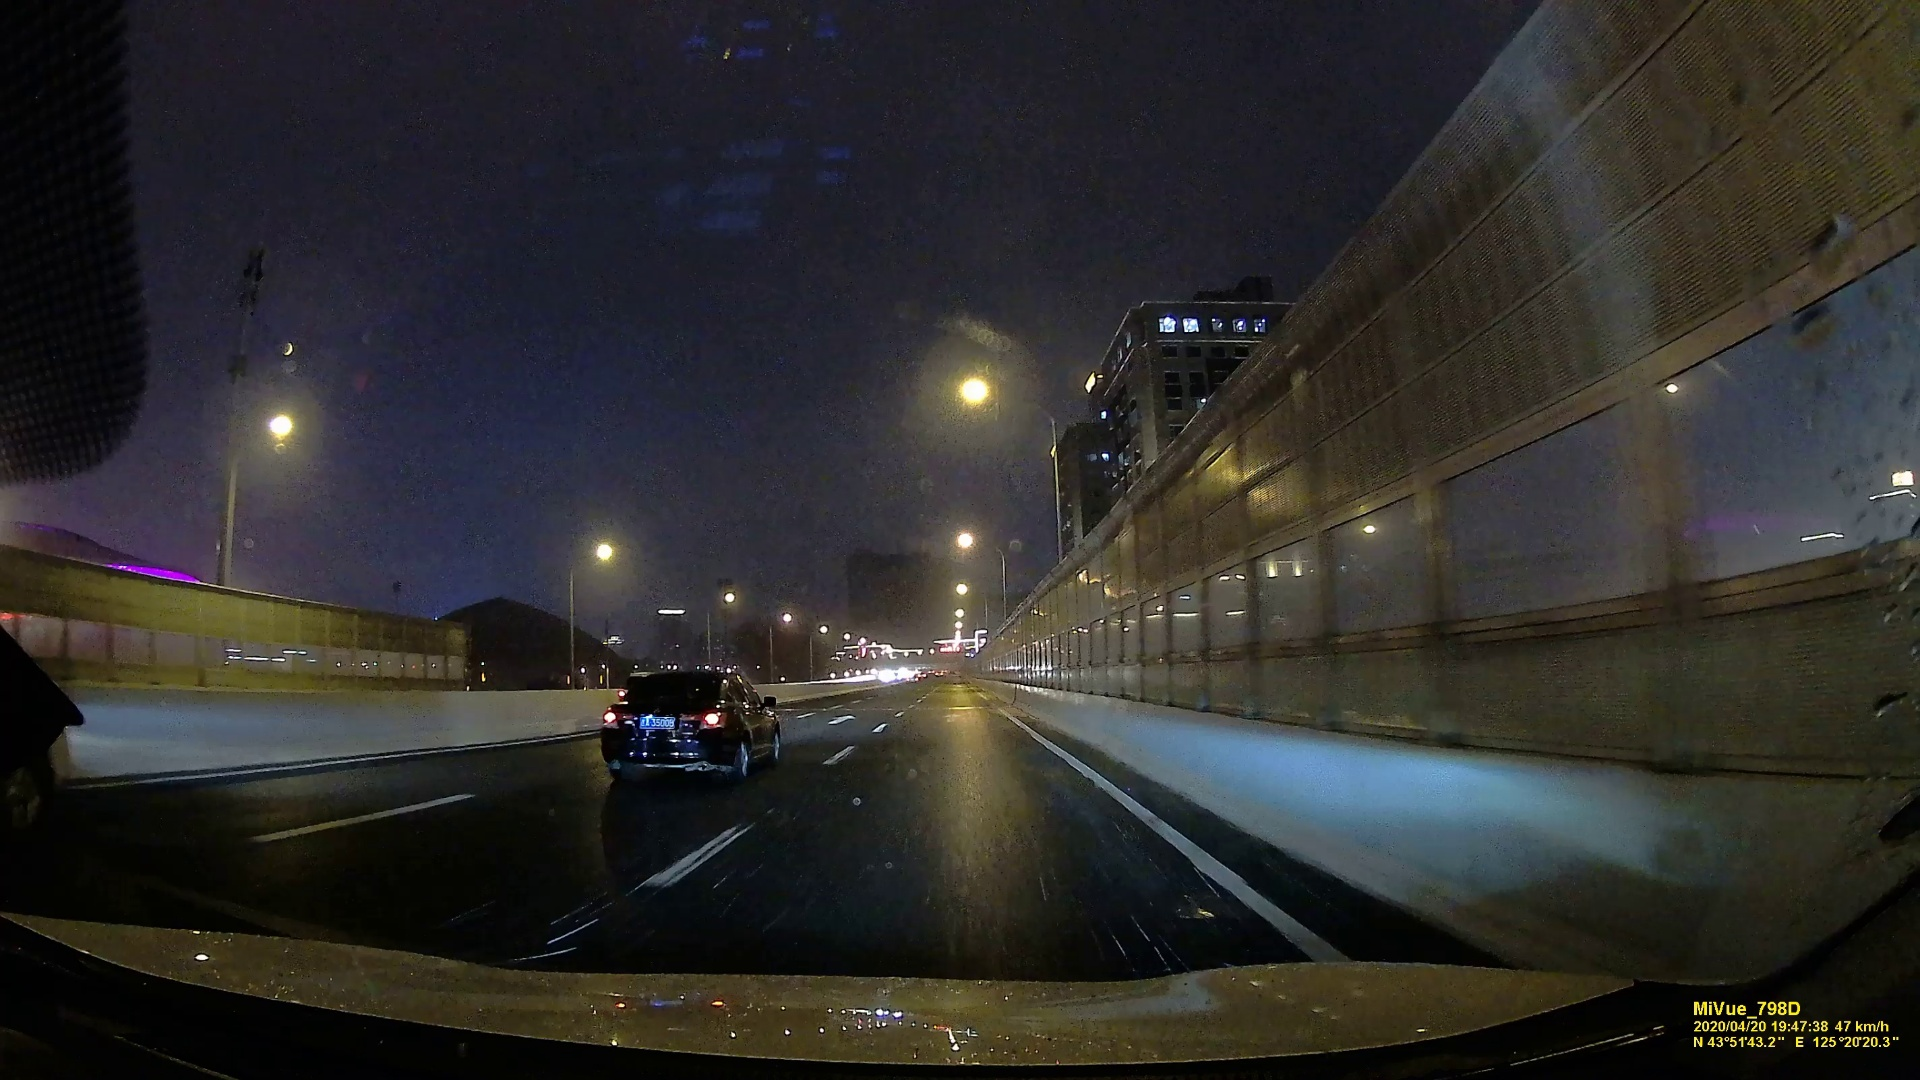vehicle: (601, 665, 787, 789)
